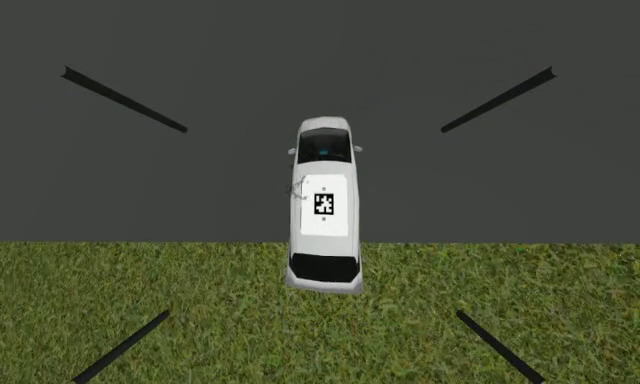Car: (289, 117, 367, 296)
Landing Pad: (301, 173, 348, 238)
